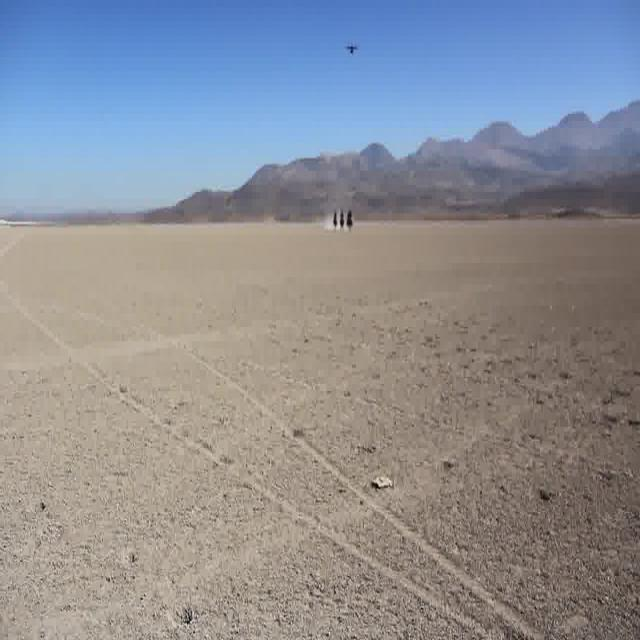drones: (342, 38, 363, 63)
